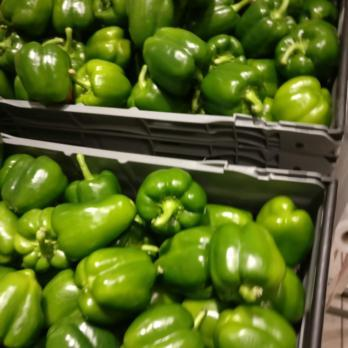Capsicum: (1, 166, 315, 348), (0, 1, 344, 102)
